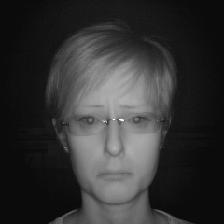sad: (47, 21, 179, 207)
